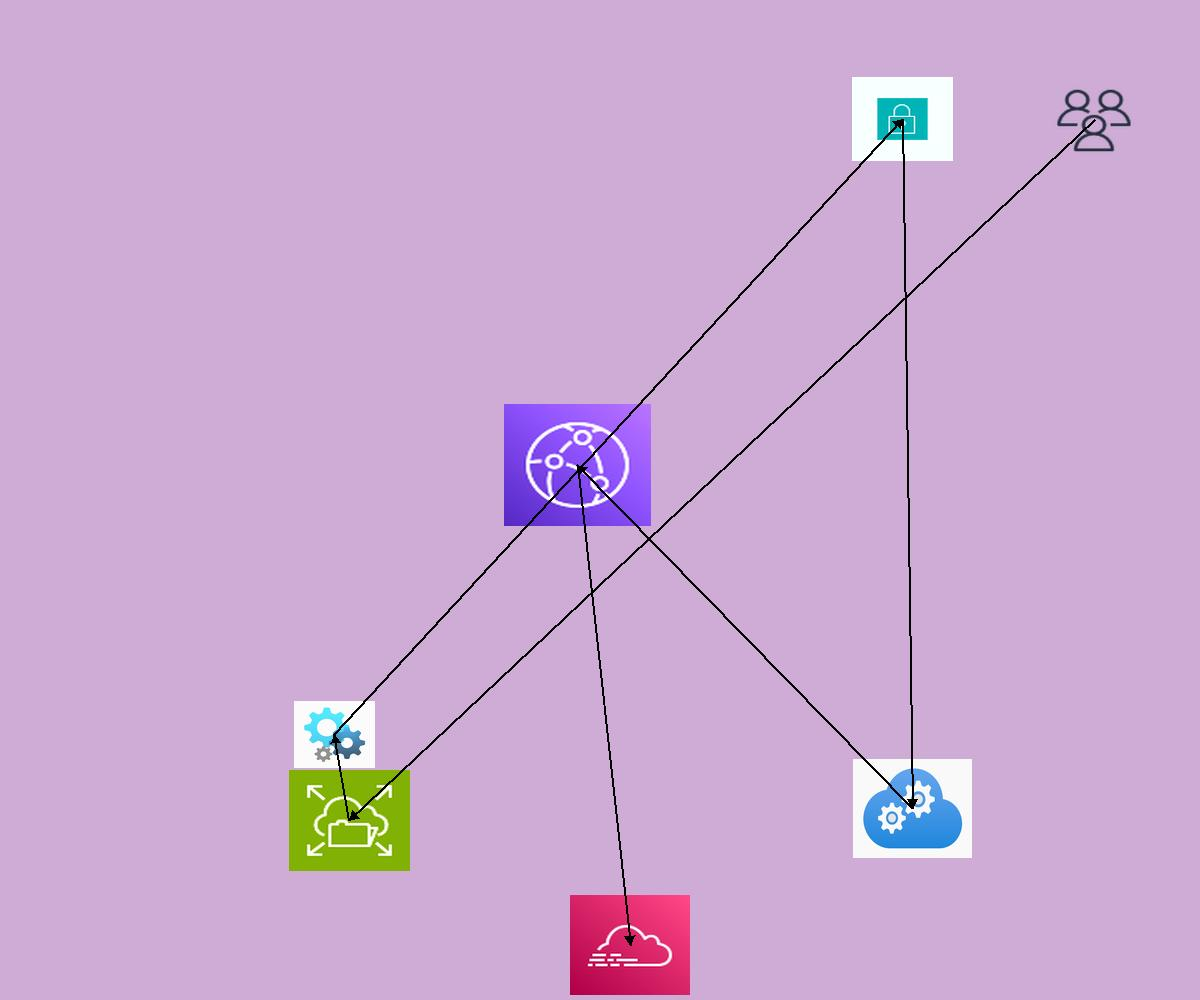AWS-CloudFront: (504, 404, 651, 526)
AWS-CloudTrail: (570, 895, 690, 995)
AWS-EFS: (289, 770, 410, 871)
AWS-Private-subnet: (852, 77, 953, 161)
AWS-Res_Users: (1054, 87, 1134, 154)
Azure_api: (294, 701, 375, 768)
Azure_cloud_services: (853, 759, 972, 858)
